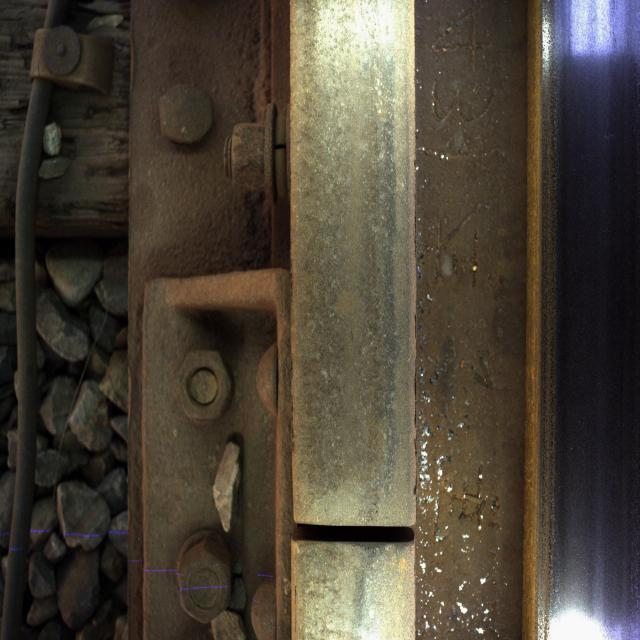spalling: (266, 471, 445, 589)
